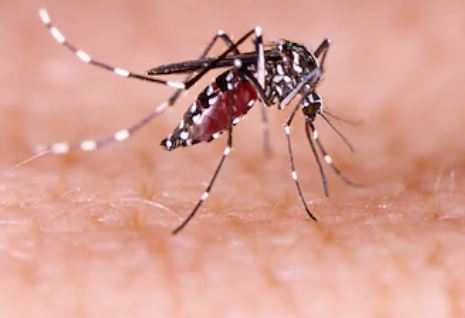dengue_mosquito: (71, 27, 358, 224)
